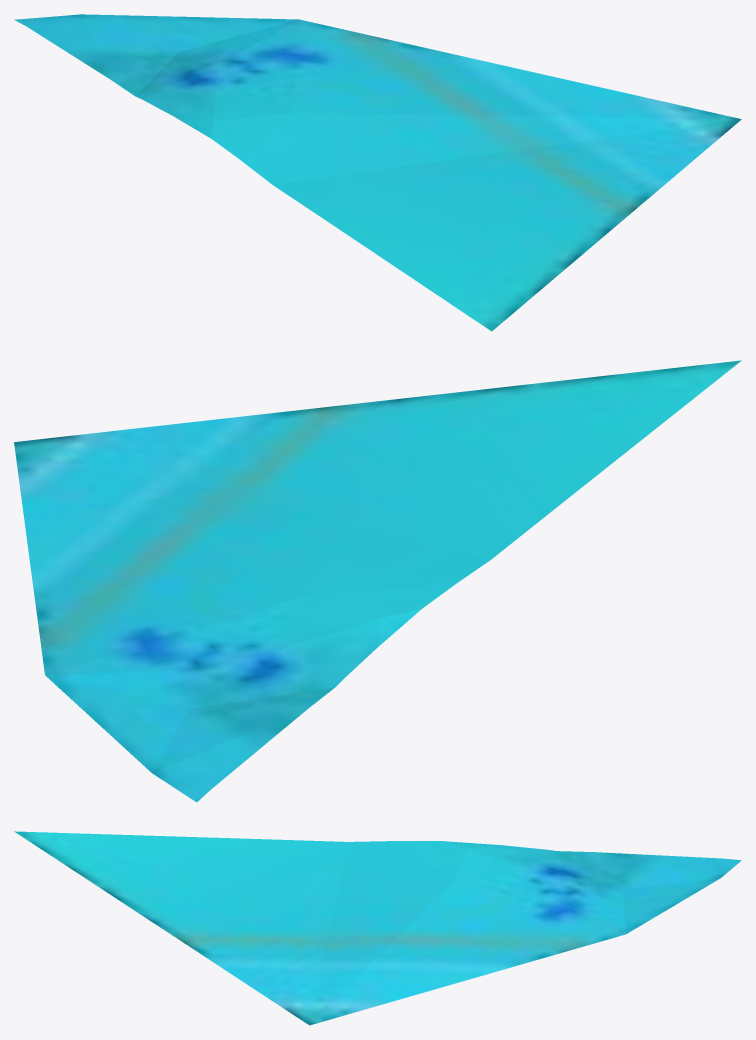
3 views of the same model, one above another, from view 1: azimuth 30°, elevation 25°; view 2: azimuth 150°, elevation 25°; view 3: azimuth 270°, elevation 25° (orthographic). The views are drawn at different scales.
Size of the model in its own units: 4.67 by 0.382 by 8.7.
1 material, 1 textured.
